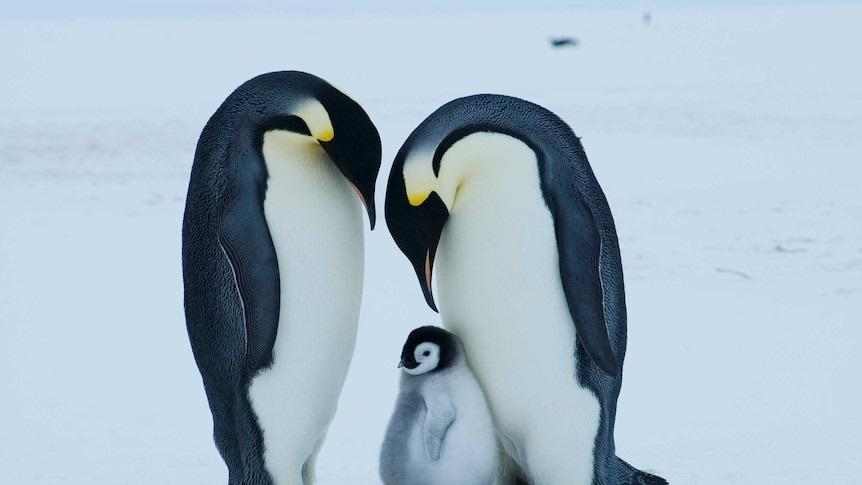emporer: (368, 87, 688, 485), (158, 53, 389, 483)
